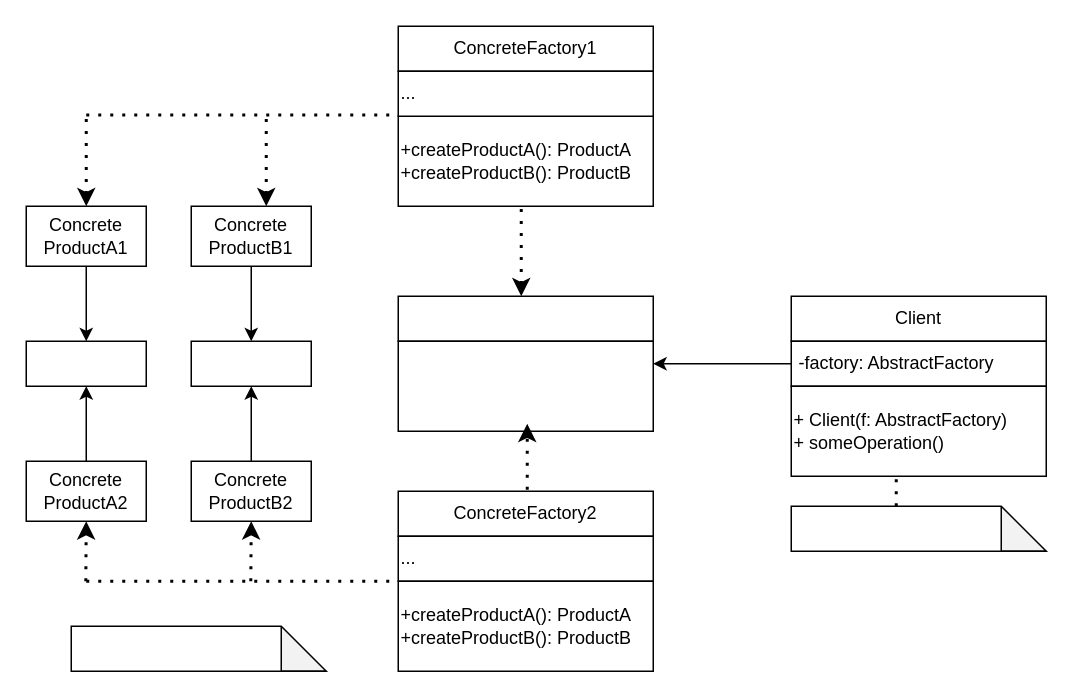
Some shapes in this 1073 by 698 pixel diagram are drawn without their labels. The centre of each missing label's shape, as x and y in pixels:
+ createProductA(): ProductA + createProductB(): ProductB: point (525, 385)
interface AbstractFactory: point (525, 318)
ProductA: point (85, 363)
ProductA pa = factoty.createProductA();: point (918, 528)
ProductB: point (250, 363)
return new ConcreteProductA2(): point (198, 648)
